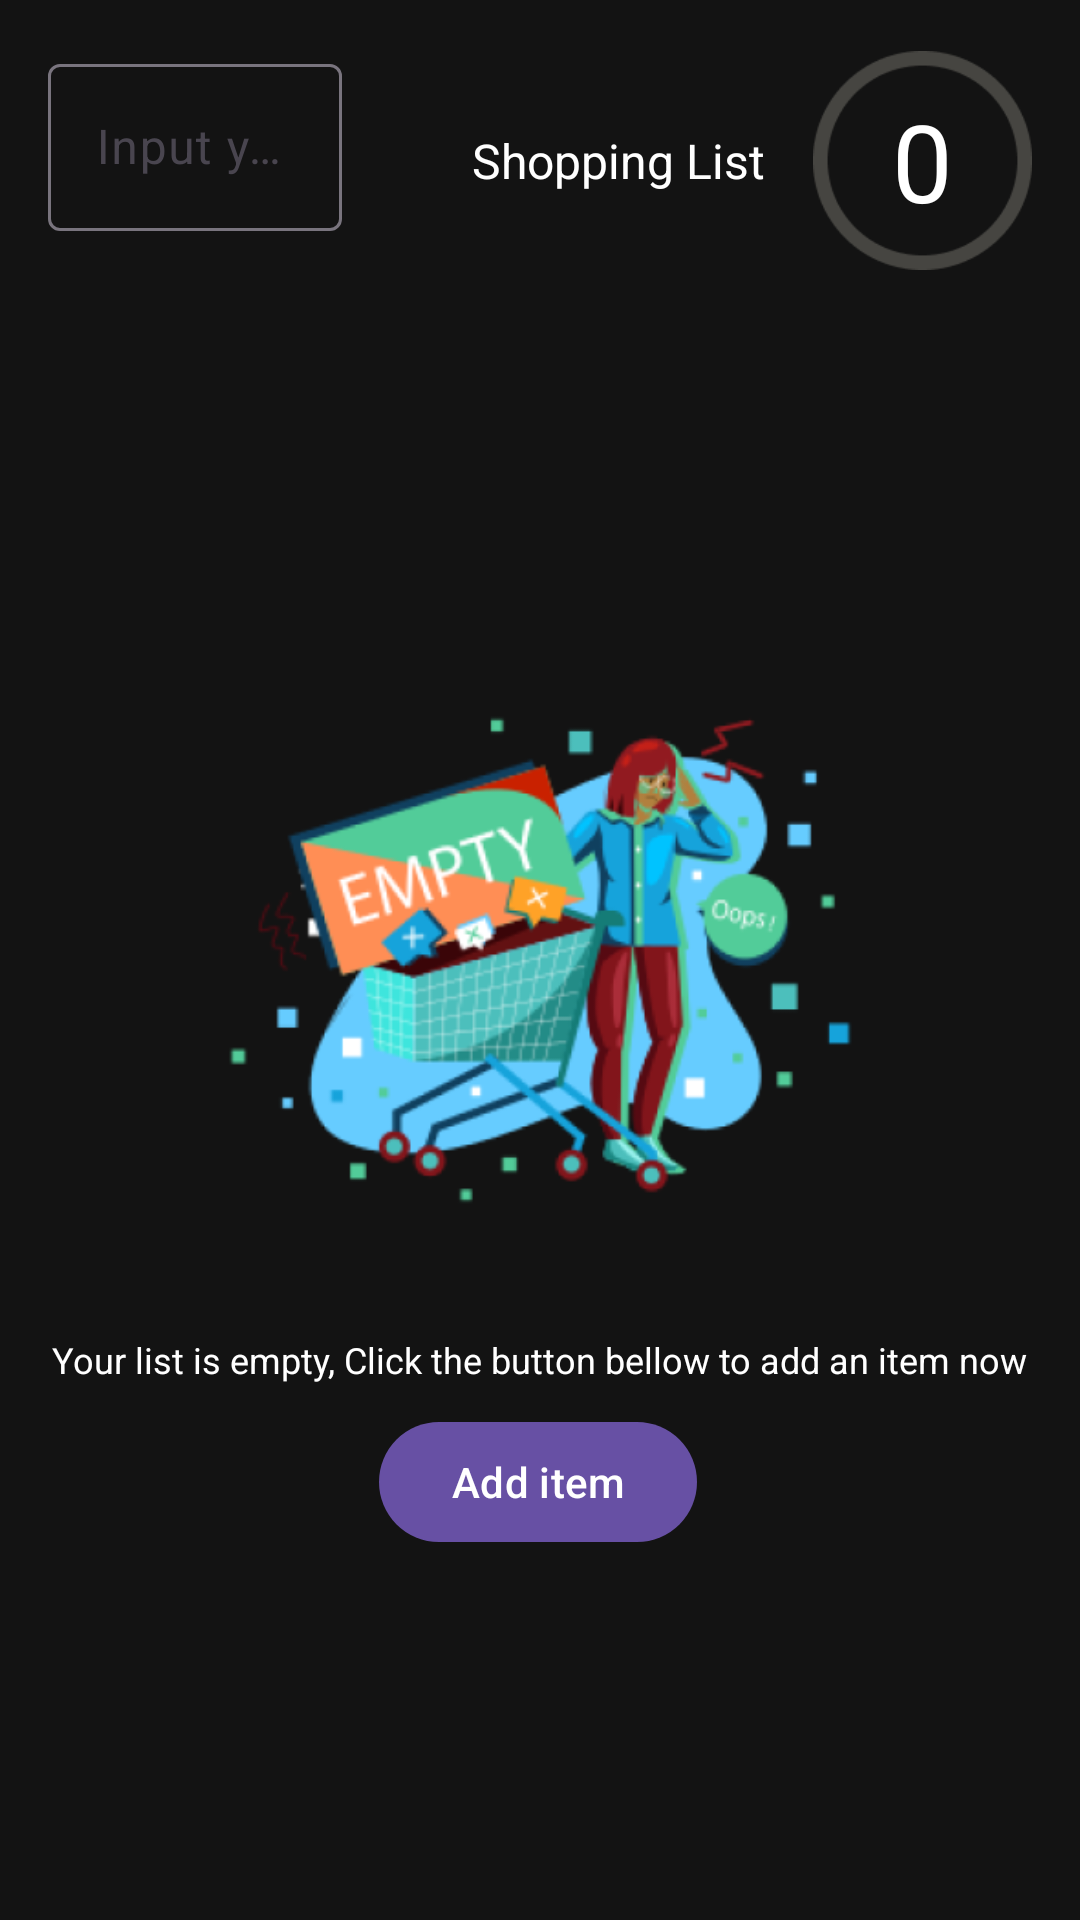

Icon bounding boxes for this 1080x1920 phone screenshot, format (x1, y1, x2, y2):
circlef: (813, 51, 1032, 270)
